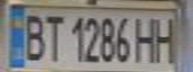1: (66, 12, 84, 63)
2: (81, 12, 100, 64)
6: (115, 13, 136, 64)
8: (97, 14, 118, 63)
B: (18, 10, 48, 62)
H: (151, 12, 184, 64), (133, 13, 163, 64)
T: (39, 11, 66, 62)
